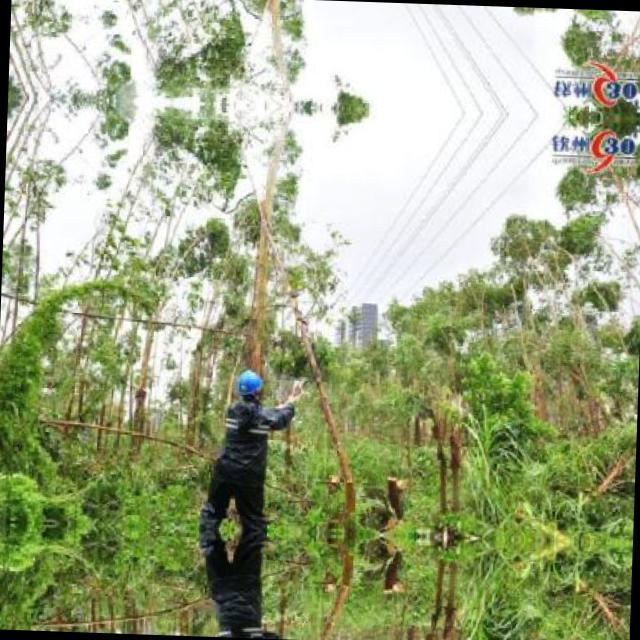helmet: (233, 365, 267, 402)
